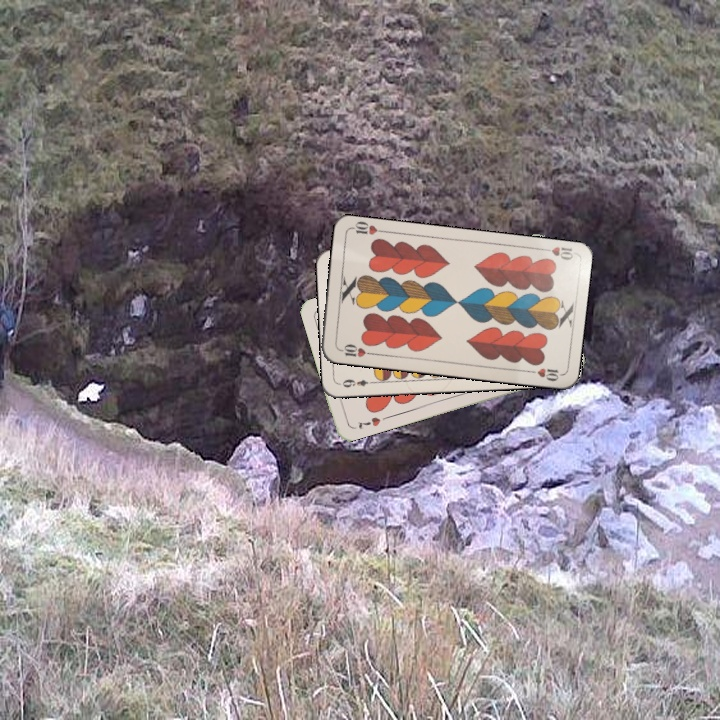E9: (337, 375, 377, 390)
H10: (536, 242, 576, 263), (335, 340, 375, 360)
H7: (354, 413, 383, 432)
